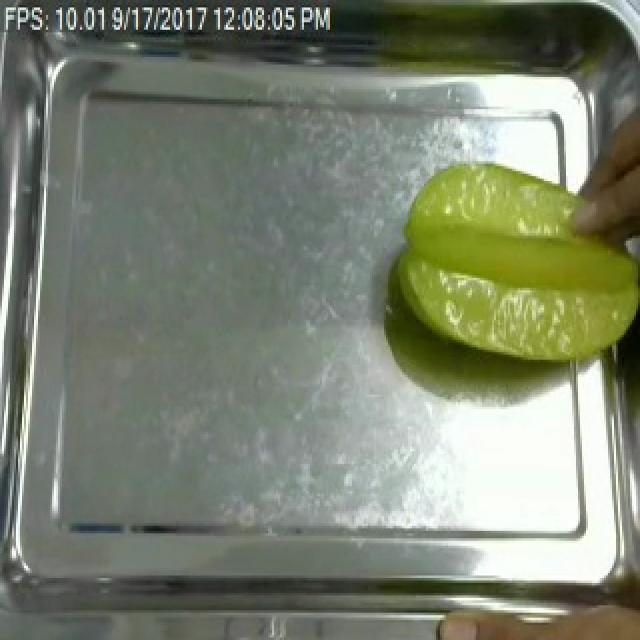fruit: (384, 146, 640, 374), (418, 590, 640, 640)
